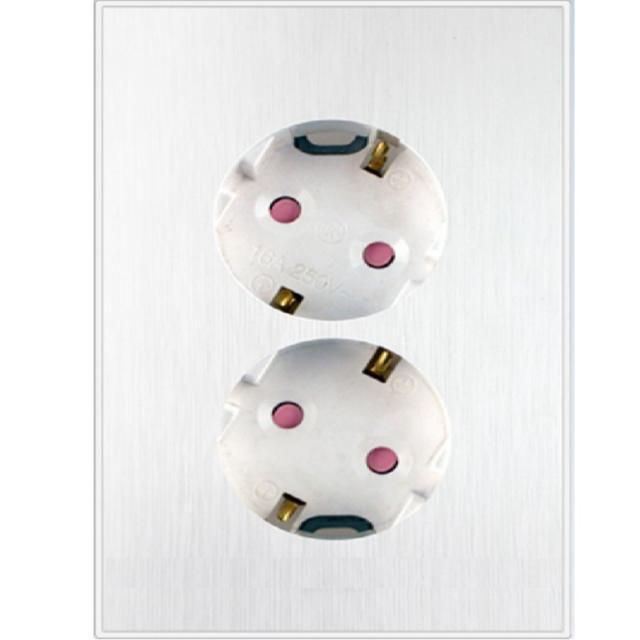typeb: (68, 3, 632, 640)
